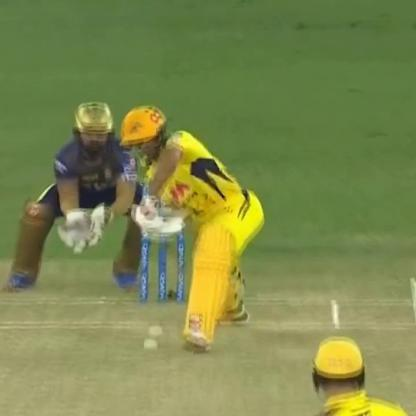ball: (144, 322, 167, 336), (140, 336, 159, 352)
pitch: (2, 282, 391, 416)
